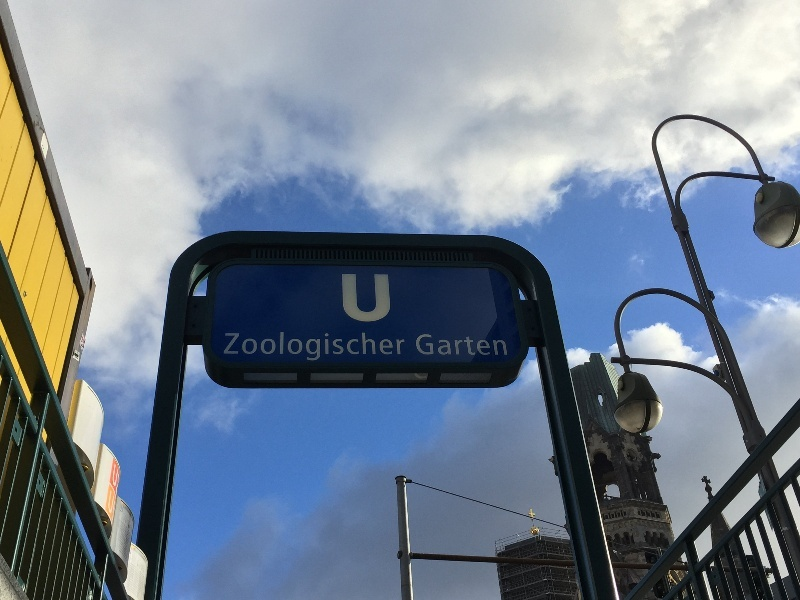text: (353, 274, 368, 326), (369, 274, 384, 326), (241, 332, 256, 367), (257, 332, 272, 367), (273, 332, 288, 367), (289, 332, 304, 367), (305, 332, 320, 367), (321, 332, 336, 367), (337, 332, 352, 367), (353, 332, 368, 367), (369, 332, 384, 367), (385, 332, 400, 367), (342, 274, 352, 326), (226, 332, 240, 367), (115, 463, 128, 496), (385, 274, 392, 326), (417, 333, 432, 355), (433, 333, 448, 355), (449, 333, 464, 355), (465, 333, 480, 355), (481, 333, 496, 355), (497, 333, 508, 355), (401, 332, 407, 367), (113, 490, 117, 522), (121, 504, 128, 513), (111, 490, 112, 522)
